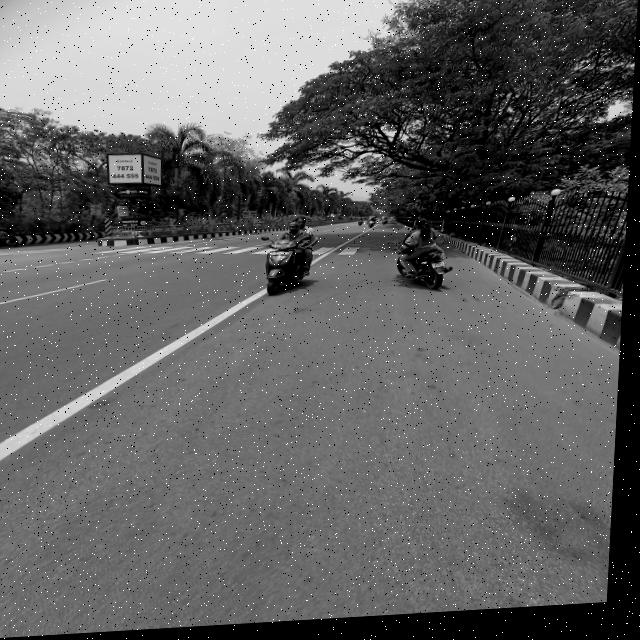bike: (396, 239, 464, 301), (264, 241, 329, 302)
